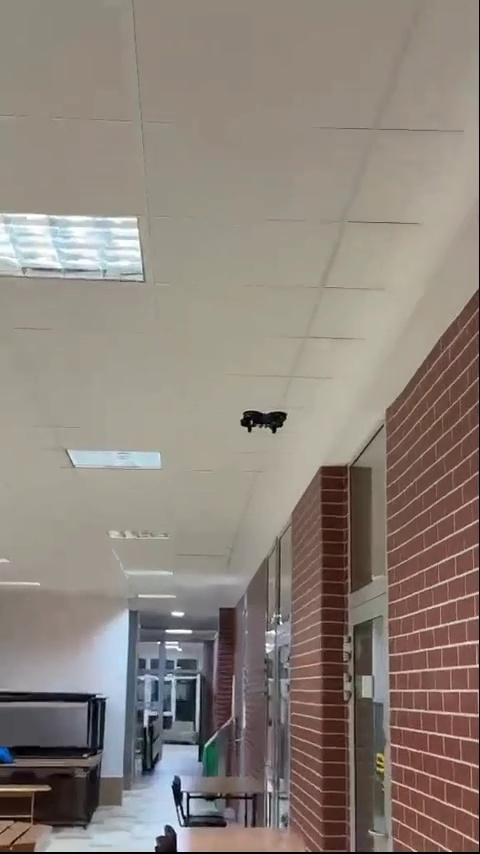drone: (236, 406, 288, 434)
